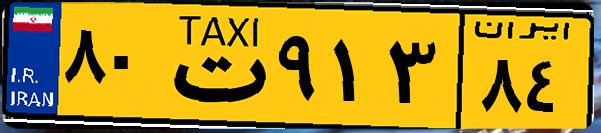0: (110, 28, 158, 98)
1: (330, 28, 385, 110)
3: (385, 28, 445, 110)
4: (525, 38, 570, 115)
8: (57, 26, 110, 100), (475, 38, 525, 113)
9: (270, 28, 330, 110)
ت: (158, 12, 270, 120)
